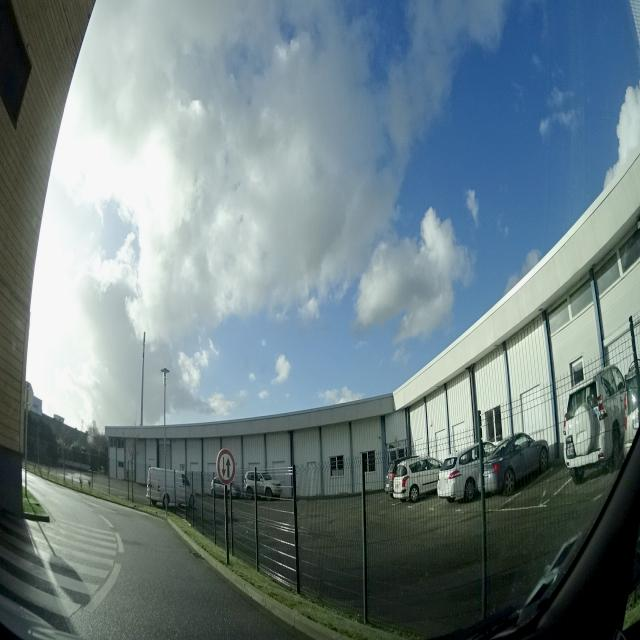car: (564, 363, 632, 483), (477, 430, 550, 498), (436, 438, 498, 504), (389, 453, 442, 503), (146, 467, 194, 508), (243, 469, 283, 501)
